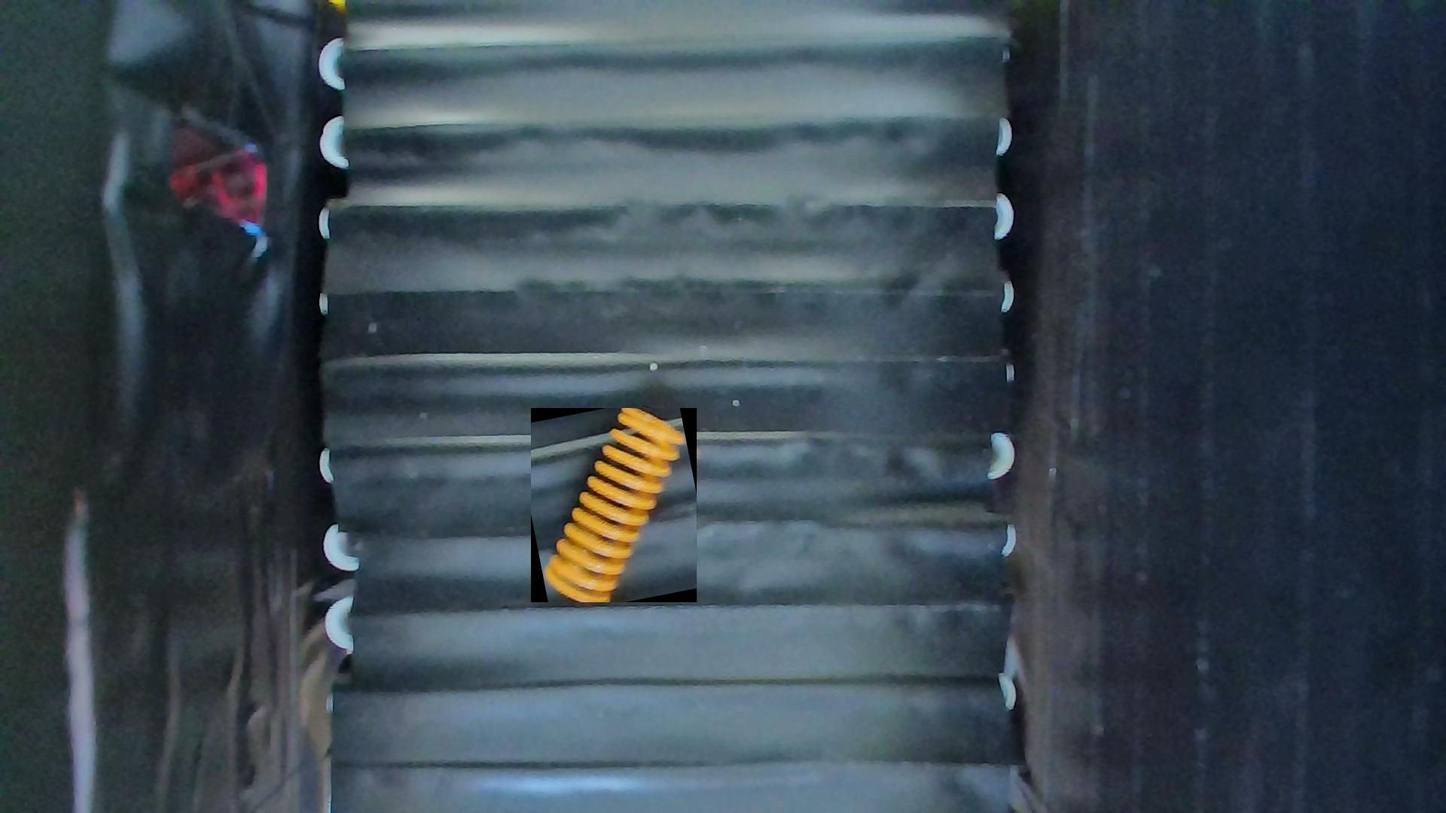spring: (531, 408, 698, 602)
